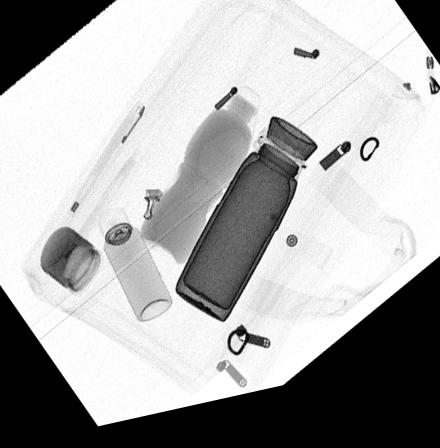Sprayer: (97, 212, 172, 328)
